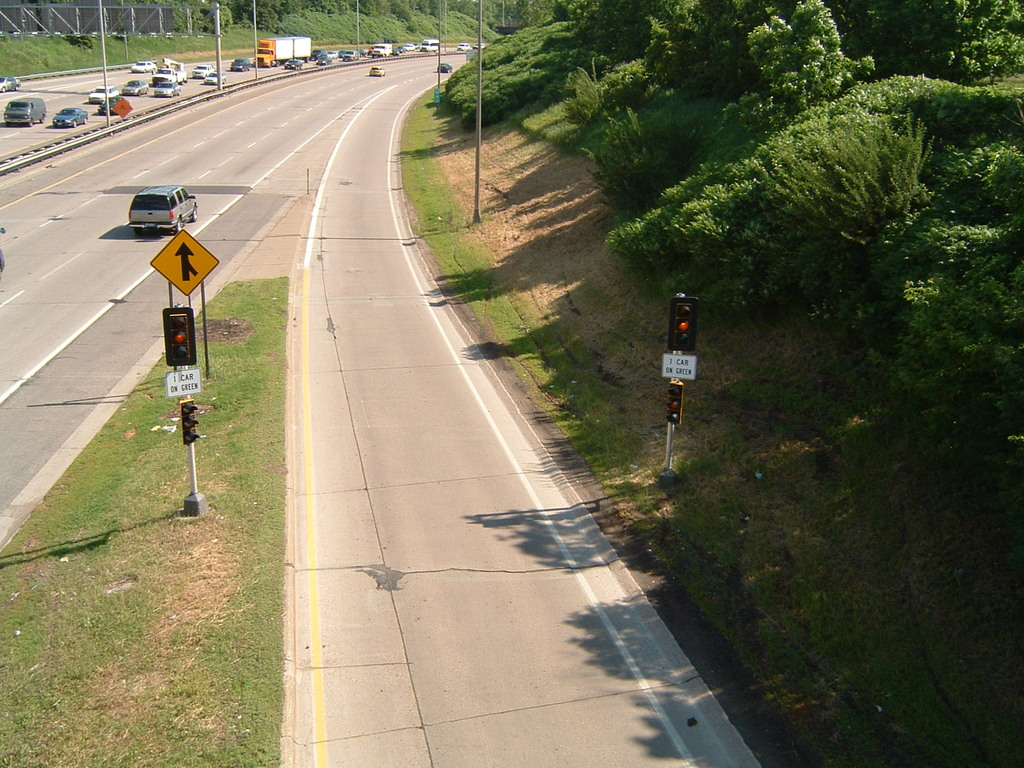Tree: (98, 0, 1023, 575)
